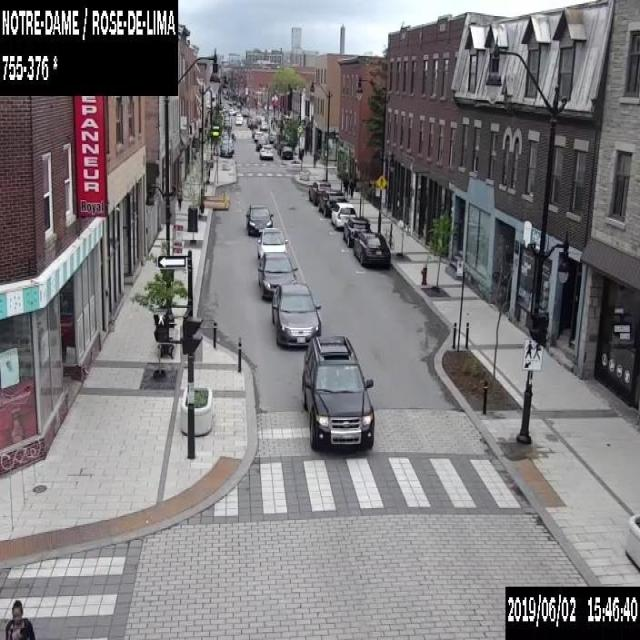pedestrian: (3, 598, 34, 639)
vehicle: (302, 336, 374, 454), (271, 282, 320, 346), (257, 251, 298, 300), (353, 232, 390, 264), (257, 228, 287, 258), (245, 202, 272, 235), (343, 216, 370, 246), (317, 189, 345, 216), (330, 201, 356, 229), (308, 179, 330, 205), (258, 144, 272, 160), (220, 140, 233, 153), (276, 140, 287, 154), (280, 146, 292, 158), (256, 138, 265, 150), (254, 131, 264, 140), (268, 132, 276, 142), (260, 122, 268, 130), (246, 116, 253, 125), (235, 112, 242, 120), (234, 116, 241, 124), (250, 121, 257, 128), (254, 116, 261, 123), (241, 110, 249, 116), (251, 128, 256, 137), (224, 122, 231, 128), (228, 108, 234, 115)
